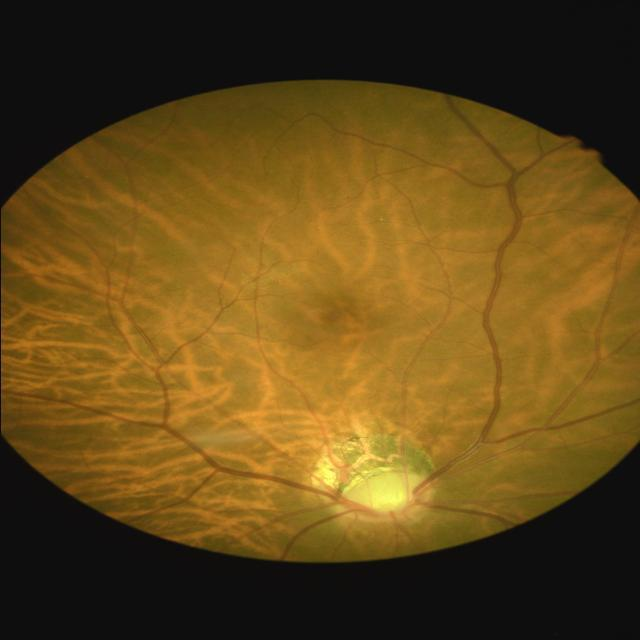cup: (340, 472, 423, 518)
disk: (334, 466, 436, 524)
